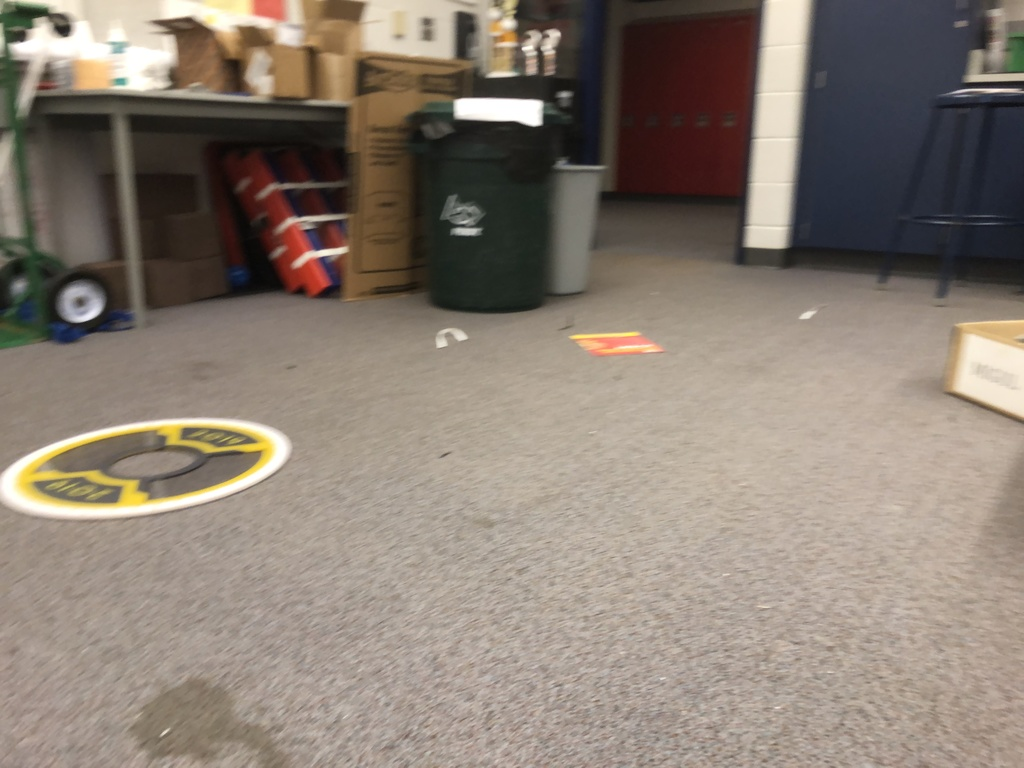hatch_panel: (1, 411, 307, 528)
